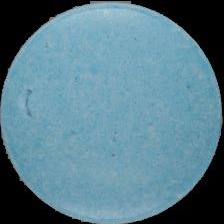54868-3399: (0, 0, 224, 224)
